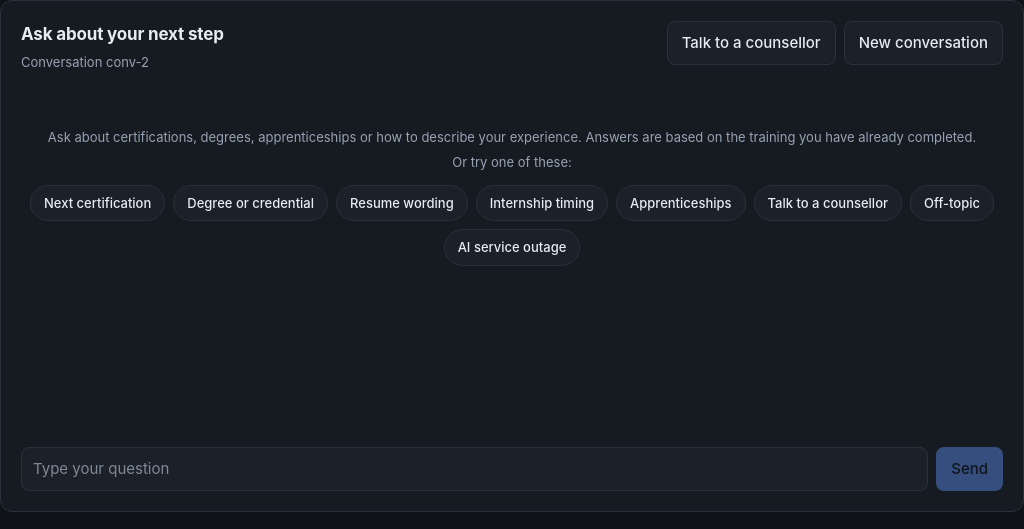
Test case: CustomerChat › labels an escalated reply with the reason
Type "My account was hacked" into the field named "Message". click: (475, 469)
box: [21,447,928,491]
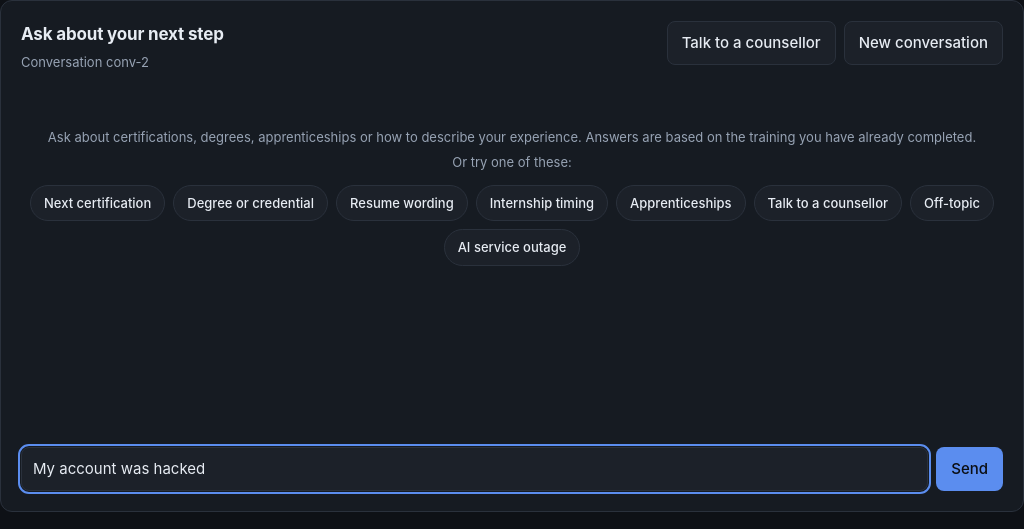
Click the button "Send". click: (970, 469)
box: [936,447,1003,491]
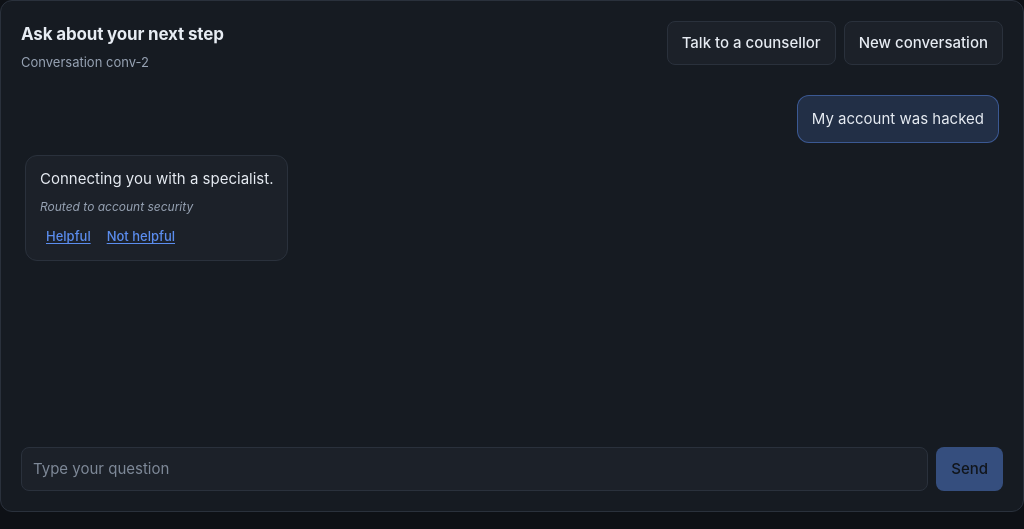
expect the text "Routed to account security" is shown: met, box [40,199,193,214]
